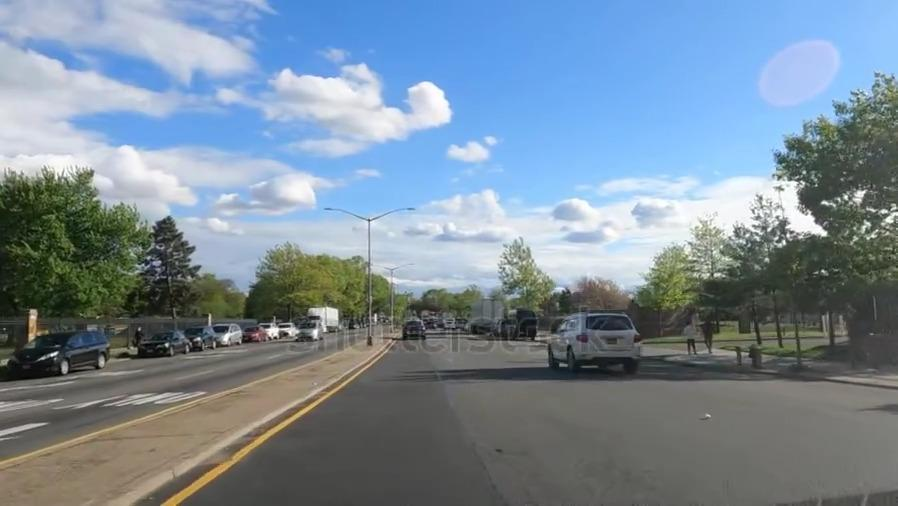car: (552, 310, 643, 375), (24, 324, 117, 378), (146, 335, 193, 357), (399, 319, 431, 339), (190, 323, 212, 347), (301, 323, 322, 343), (215, 323, 237, 341), (242, 327, 259, 342), (281, 321, 296, 335), (263, 323, 275, 335)
person: (703, 318, 720, 352), (688, 321, 702, 353), (132, 325, 143, 342)
rubbish: (705, 407, 713, 422)
truck: (311, 305, 340, 329)
